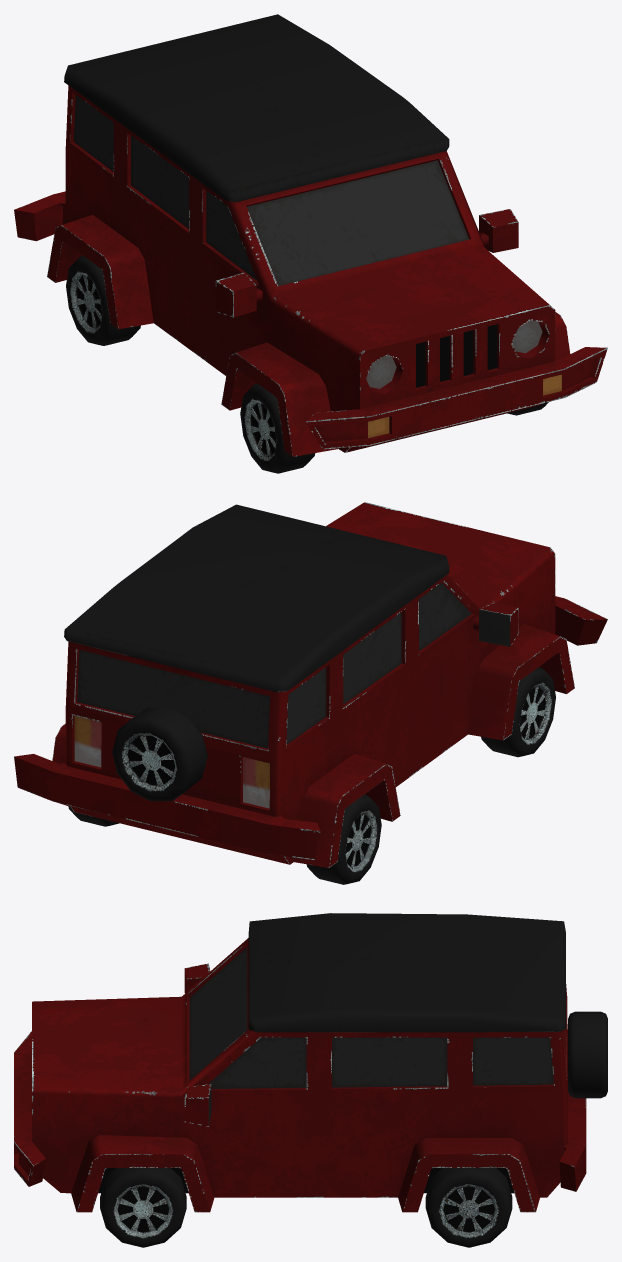
The model's file is Suv.fbx.
3 views of the same model, one above another, from view 1: azimuth 30°, elevation 25°; view 2: azimuth 150°, elevation 25°; view 3: azimuth 270°, elevation 25° (orthographic). The views are drawn at different scales.
Visible parts, largest first — view 1: Suv; view 2: Suv; view 3: Suv.
Boxes of the visible parts, bbox=[...] form: Suv: bbox=[14, 14, 607, 473]; Suv: bbox=[14, 502, 607, 884]; Suv: bbox=[14, 913, 607, 1247].
Bounding box in the file's own units: 215 × 162 × 386.
1 material, 1 textured.
